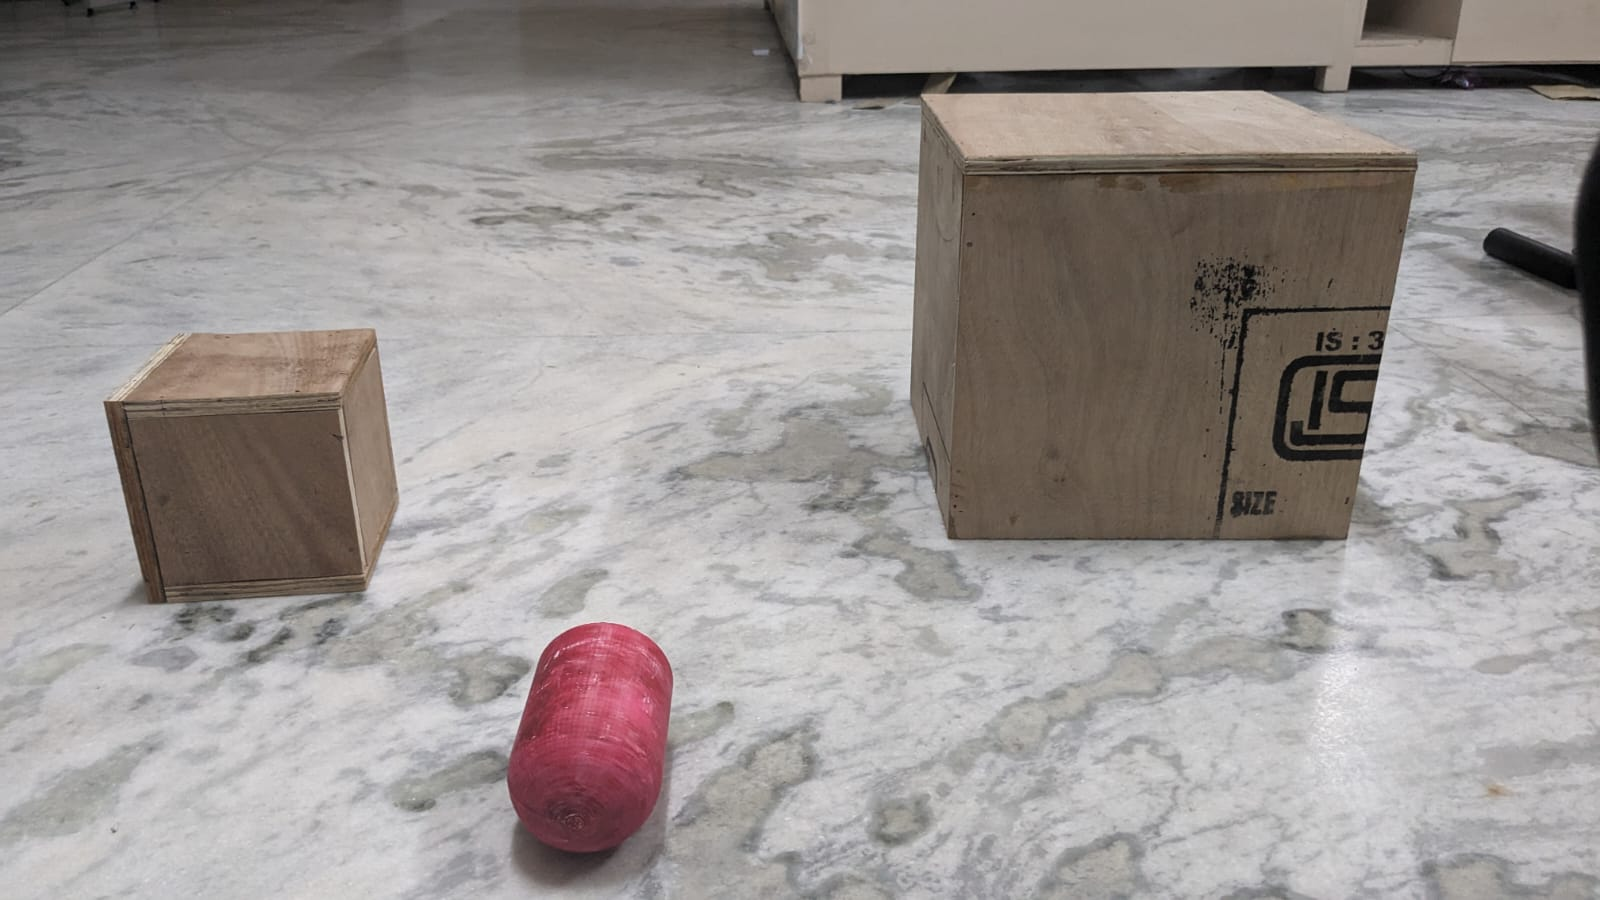150mm obstacle: (95, 312, 434, 619)
300mm obstacle: (873, 73, 1440, 573)
testtube: (491, 612, 687, 864)
